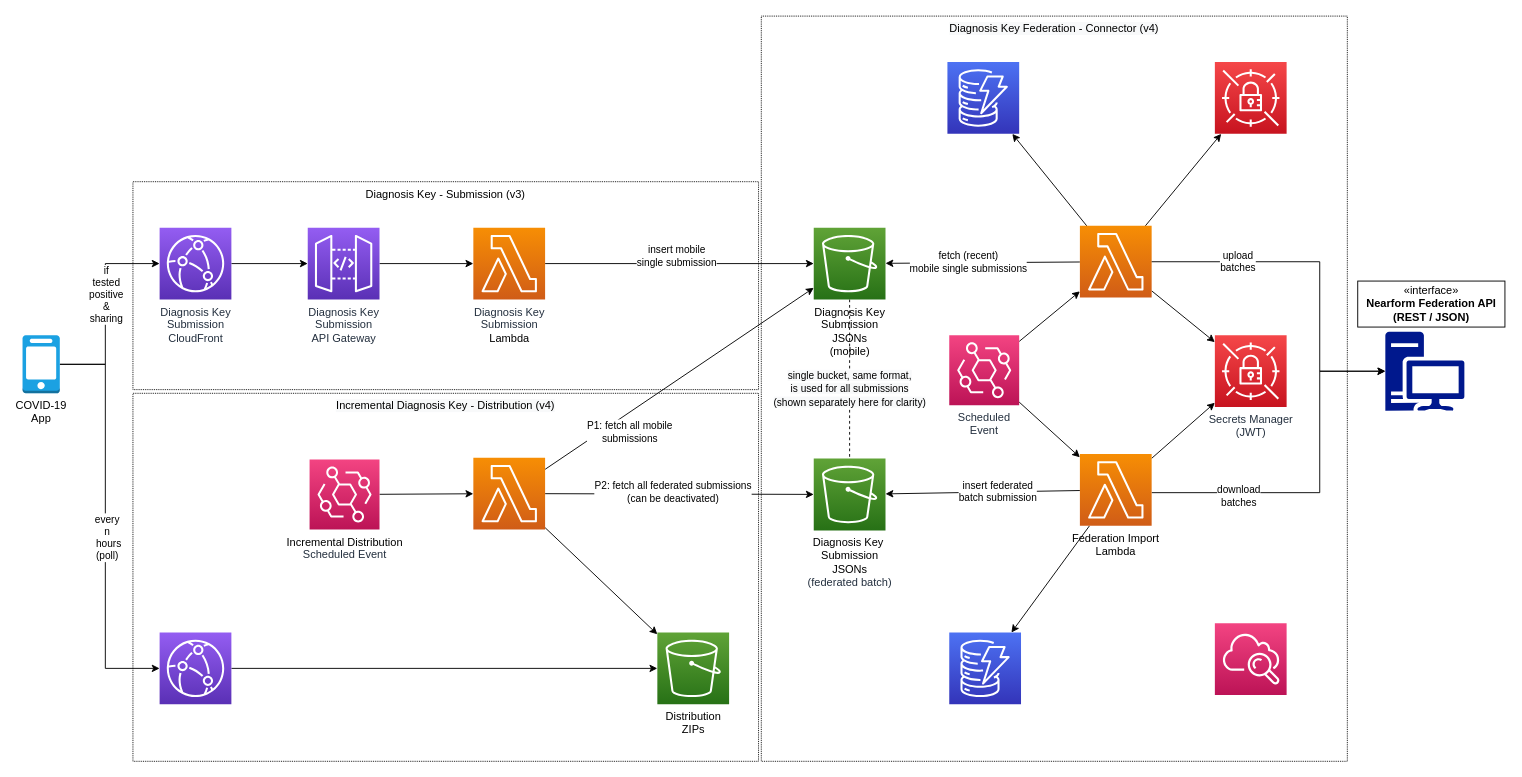
Some shapes in this 1522 by 777 pixel diagram are drawn without their labels. Each missing label, with the centre of its shape:
Exposure Keys Distribution CloudFront (CDN): the point at 195,668
Federation Export Lambda: the point at 1115,261
Federation Logs, Metrics & Alerts e.g. Imported Key Volume > threshold: the point at 1250,658
Federation State (e.g. last downloaded batch): the point at 984,668
Federation State (e.g. last upload submission time window): the point at 982,97
Incremental Distribution Lamda: the point at 508,493
NearForm: the point at 1424,370
Secrets Manager (Upload Signing Key): the point at 1250,97
